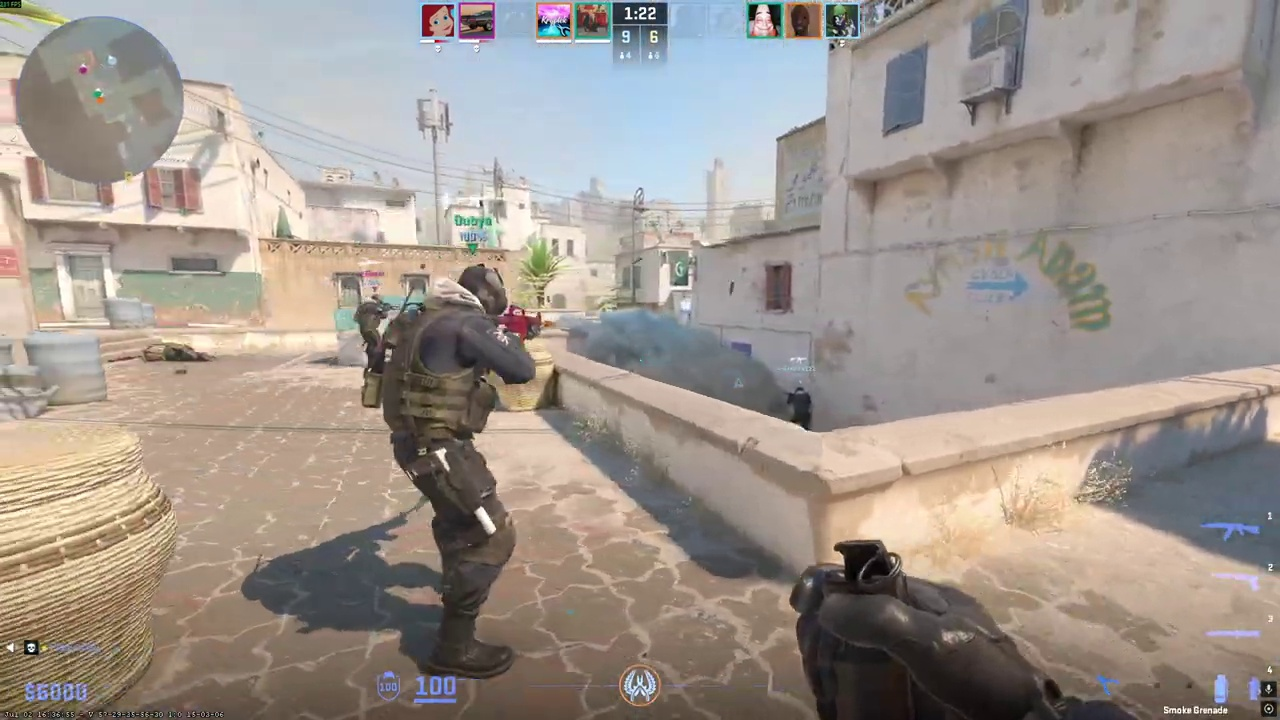CT: (366, 260, 545, 677), (787, 386, 815, 429)
